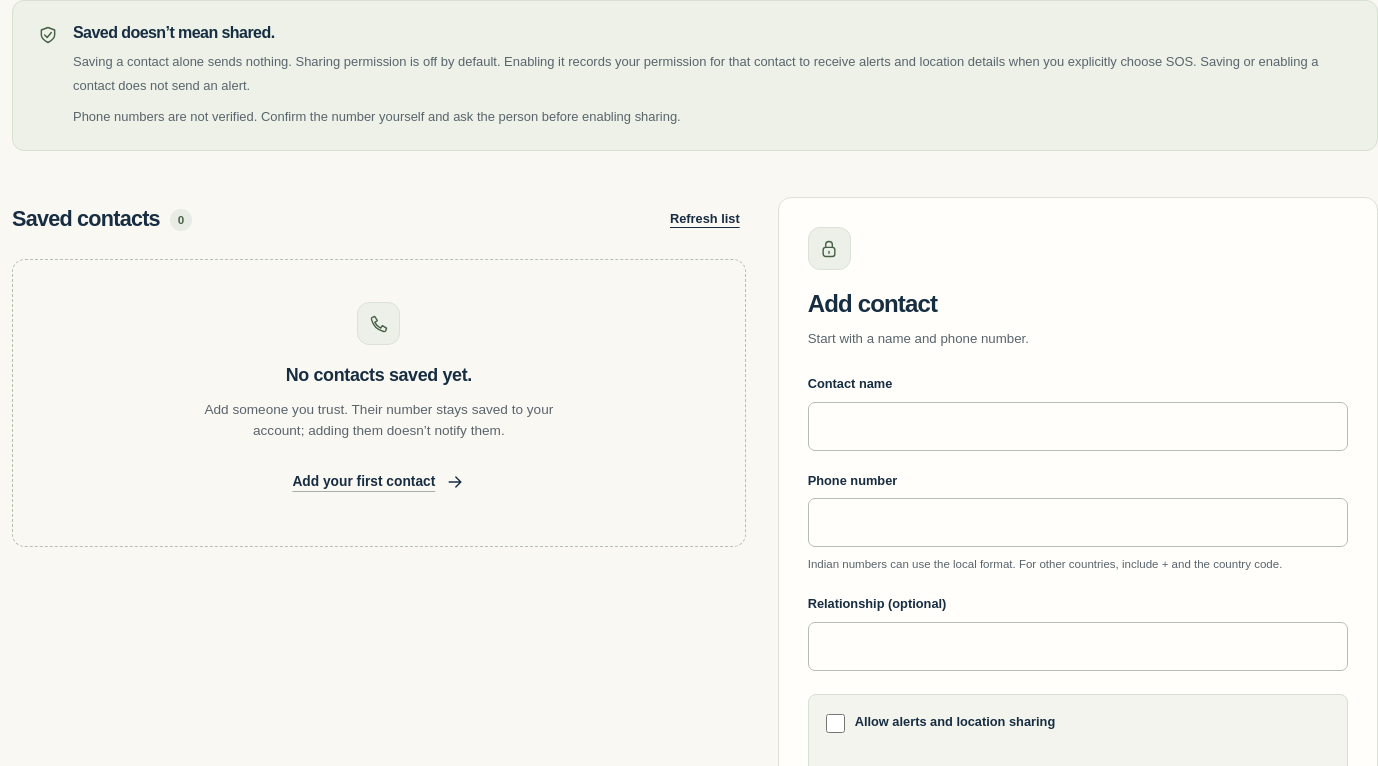
Test case: contact creation and validation › only sends alert_enabled true after explicit checkbox opt-in
Type "Asha" into the field labelled "Contact name" at {"x": 1078, "y": 426}, box [808,402,1348,451]
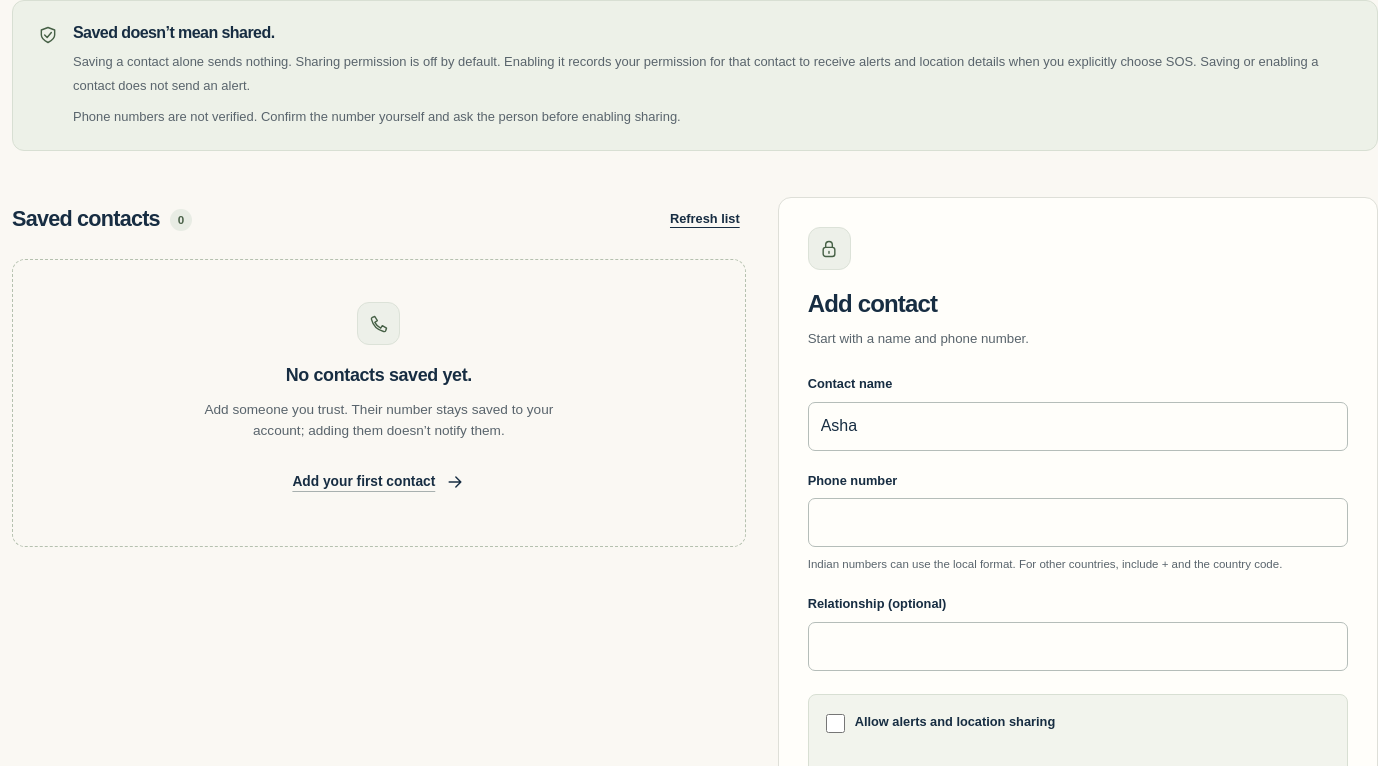
Type "9876543210" into the field labelled "Phone number" at {"x": 1078, "y": 523}, box [808,498,1348,547]
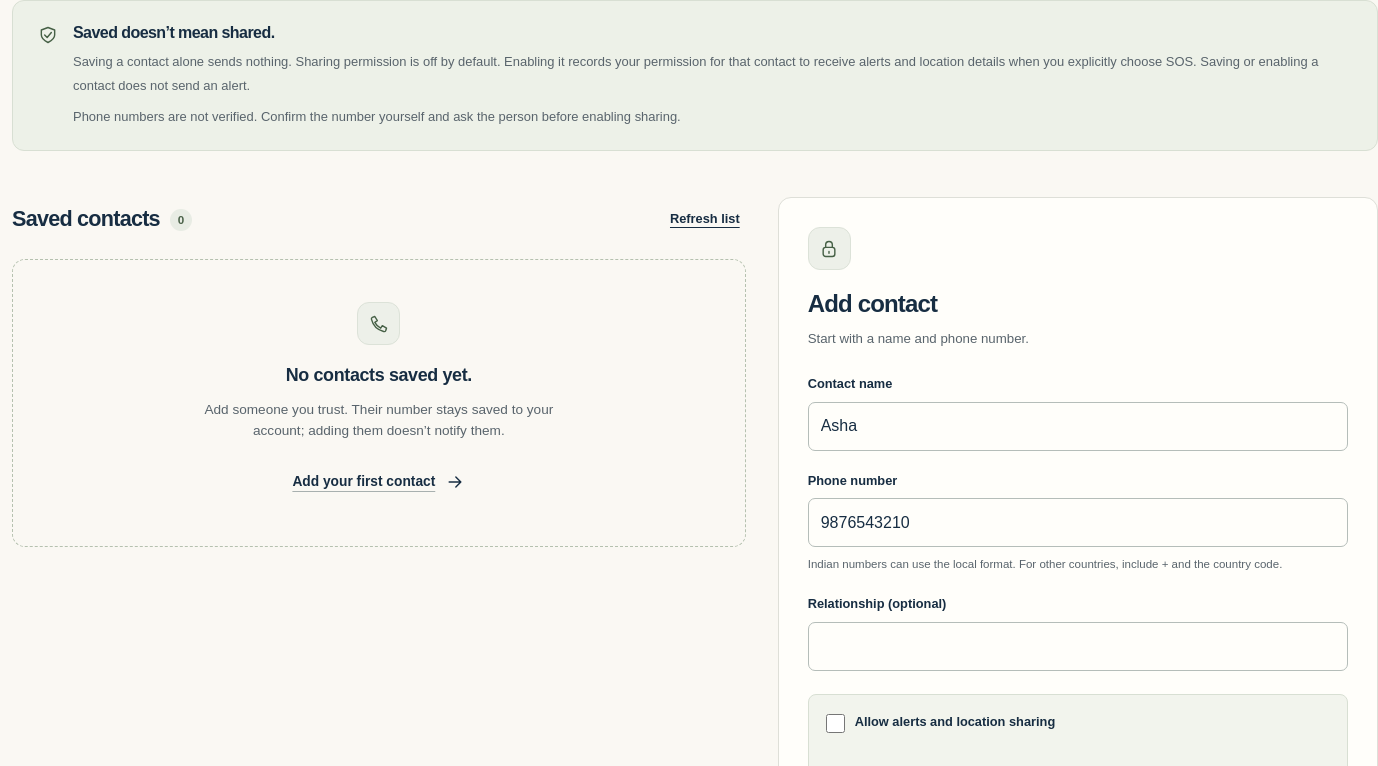
Type "Friend" into the field labelled "Relationship (optional)" at {"x": 1078, "y": 646}, box [808,622,1348,671]
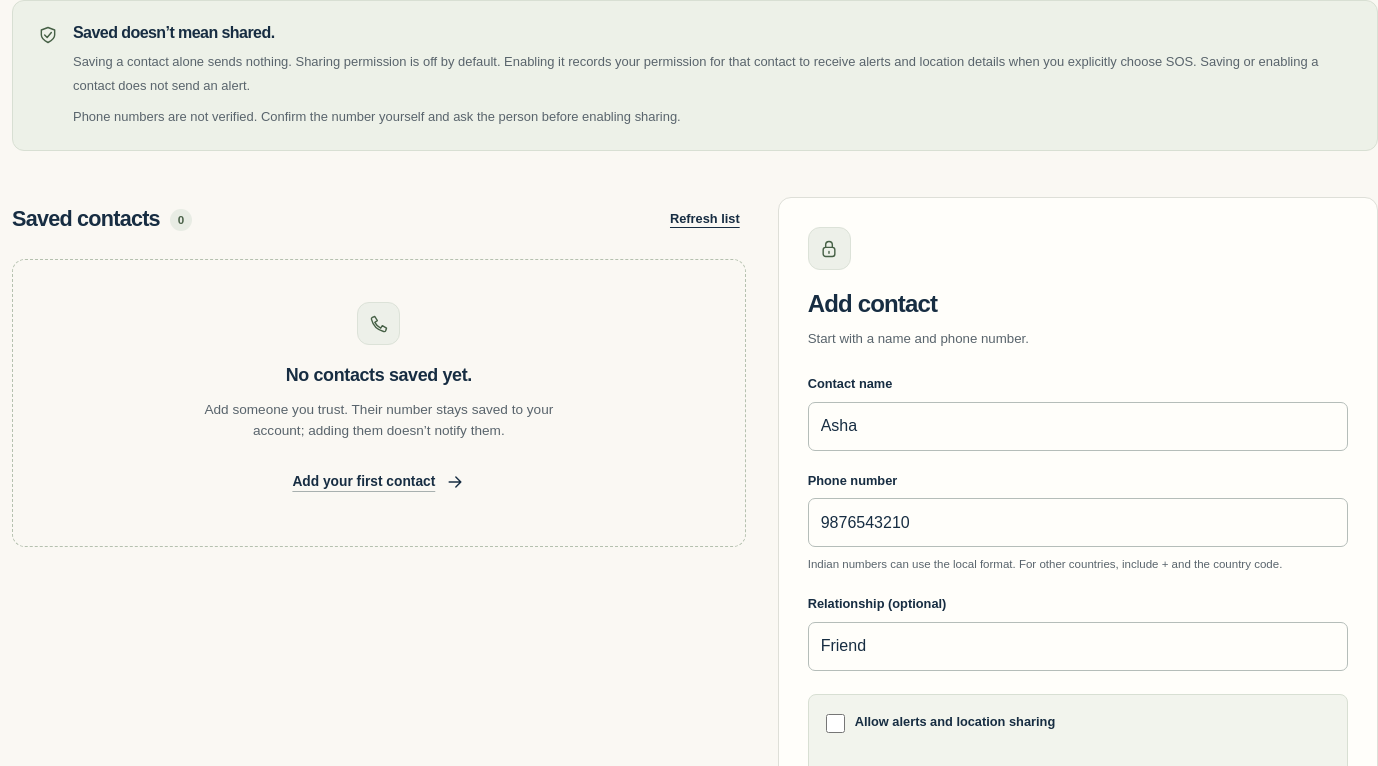
Click the checkbox labelled "Allow alerts and location sharing" at {"x": 835, "y": 723}, box [826,714,845,733]
(page scrolled)
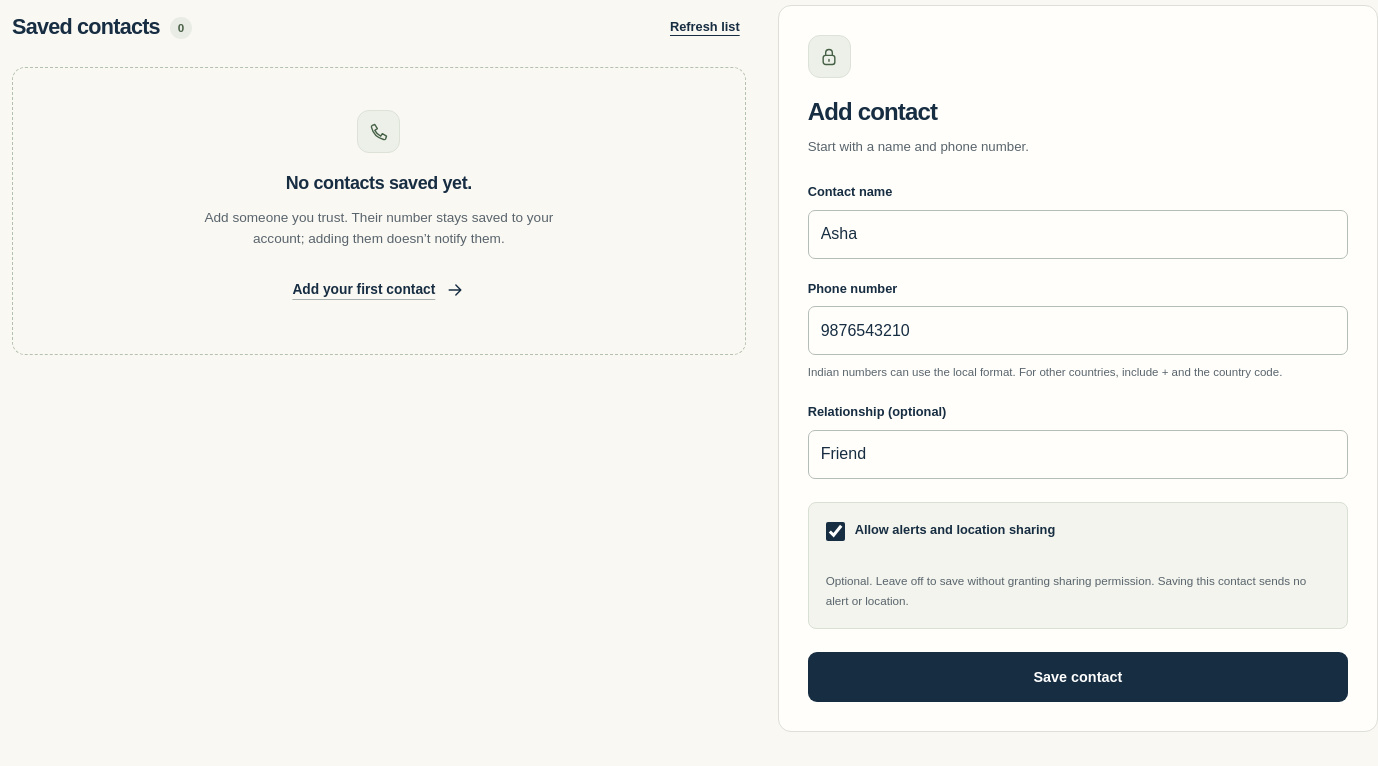
Submit the form named "Add contact", box [808,182,1348,702]
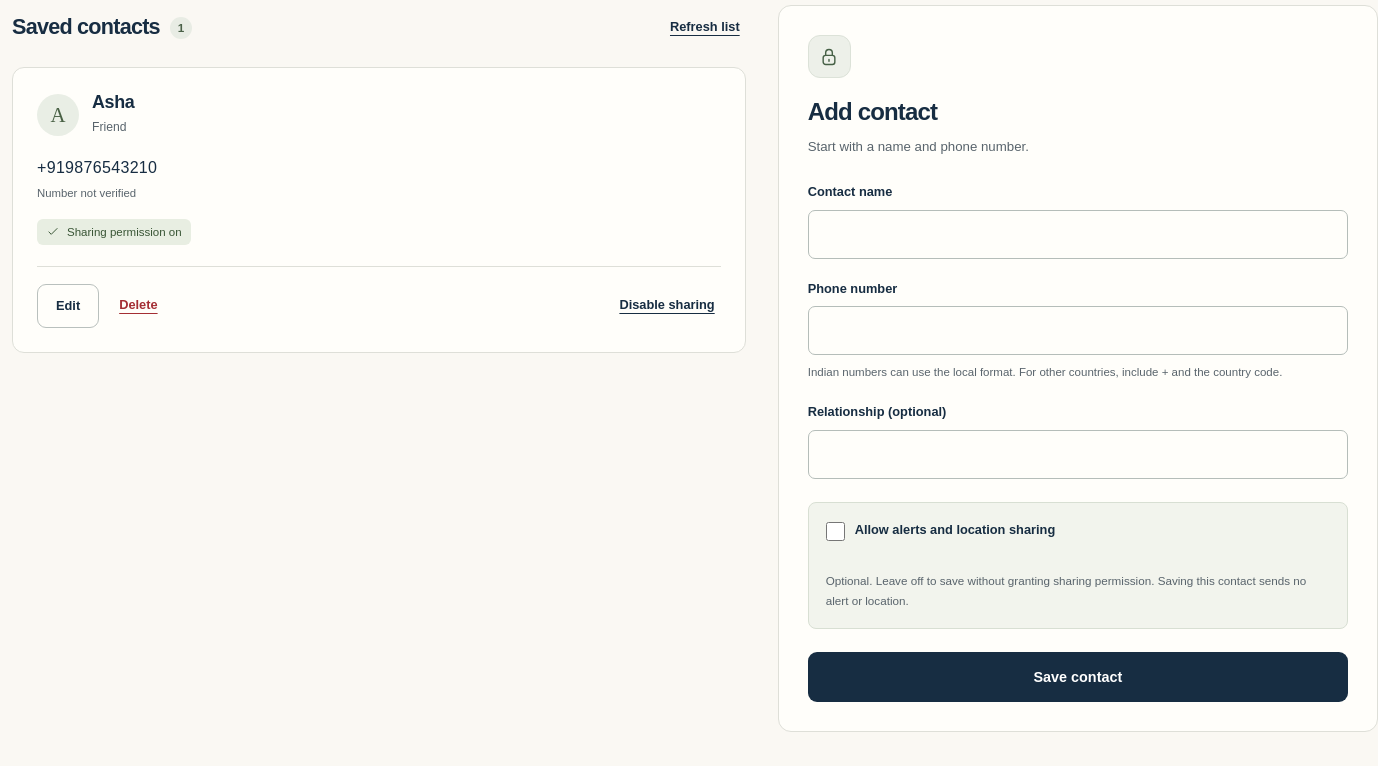
Expected: the checkbox labelled "Allow alerts and location sharing" is not checked, [826,522,845,541]
Expected: the text "Sharing permission on" is shown, [37,219,191,245]
